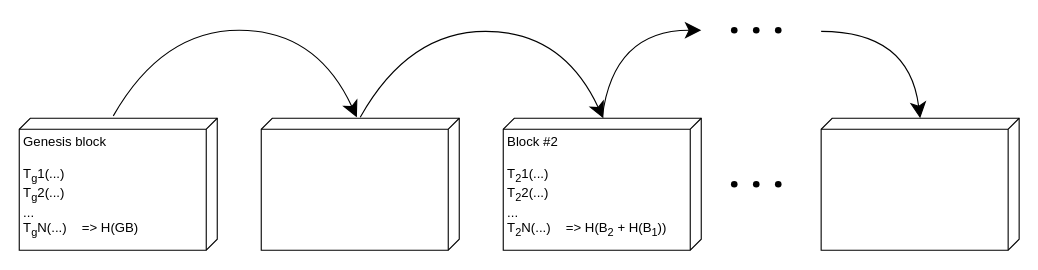
The diagram is 1038 pixels wide and 270 high, and some of its shapes have lost their labels. The box of each missing label's shape, as (x1, y1, x2, y2) in pixels:
Block #1 T 1 1(...) T 1 2(...) ... T 1 N(...) => H(B 1 + H(GB)): (260, 117, 459, 250)
Block #N T N 1(...) T N 2(...) ... T N N(...) => H(B N + H(B N-1 )): (820, 117, 1019, 250)
